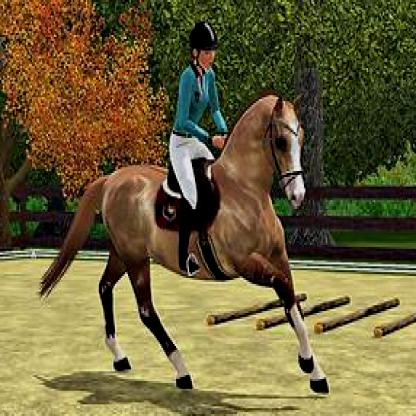horse: (39, 91, 329, 391)
